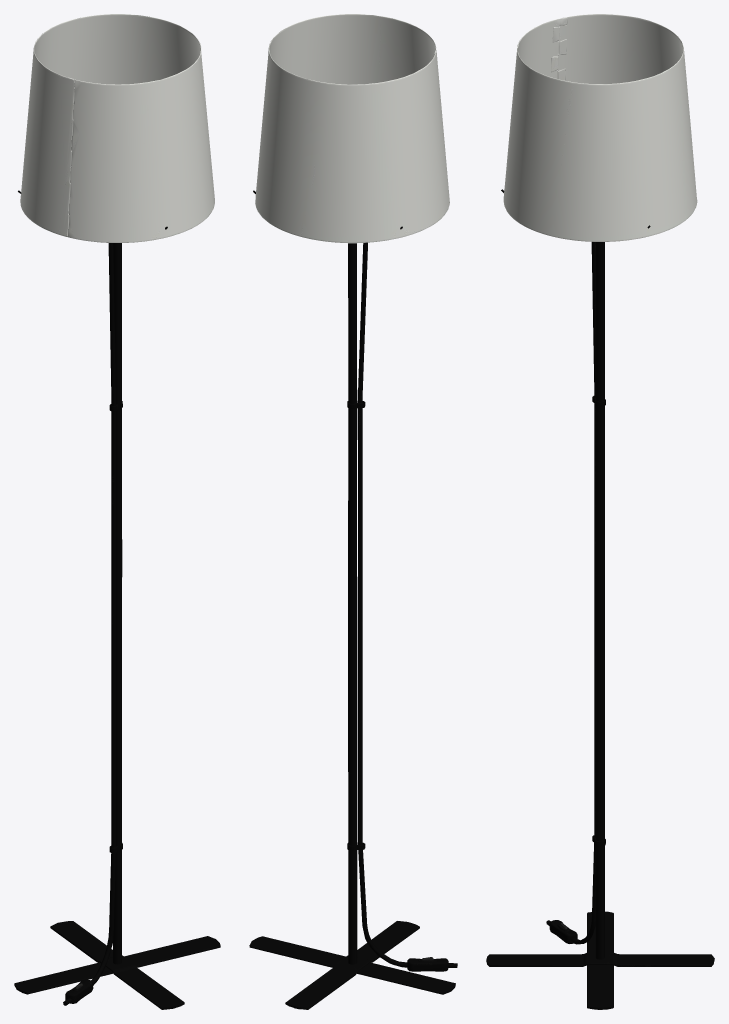
File: barlast_lampa_podogowa_10430368.glb
3 views of the same model, side by side, from view 1: azimuth 30°, elevation 25°; view 2: azimuth 150°, elevation 25°; view 3: azimuth 270°, elevation 25° (orthographic).
Visible parts, largest first — view 1: barlast_lampa_podogowa_10430368; view 2: barlast_lampa_podogowa_10430368; view 3: barlast_lampa_podogowa_10430368.
Boxes of the visible parts, x1,y1,x2,y2 form: barlast_lampa_podogowa_10430368: (14,14,220,1009); barlast_lampa_podogowa_10430368: (249,14,457,1009); barlast_lampa_podogowa_10430368: (486,14,714,1009).
Size of the model in its own units: 0.3406 by 1.5 by 0.3404.
1 material, 1 textured.
